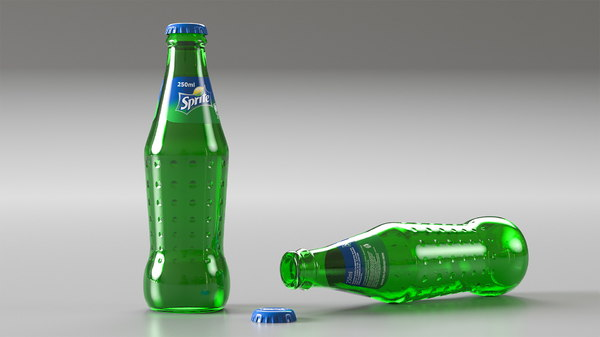glass_bottle: (139, 18, 234, 320), (276, 213, 533, 310)
